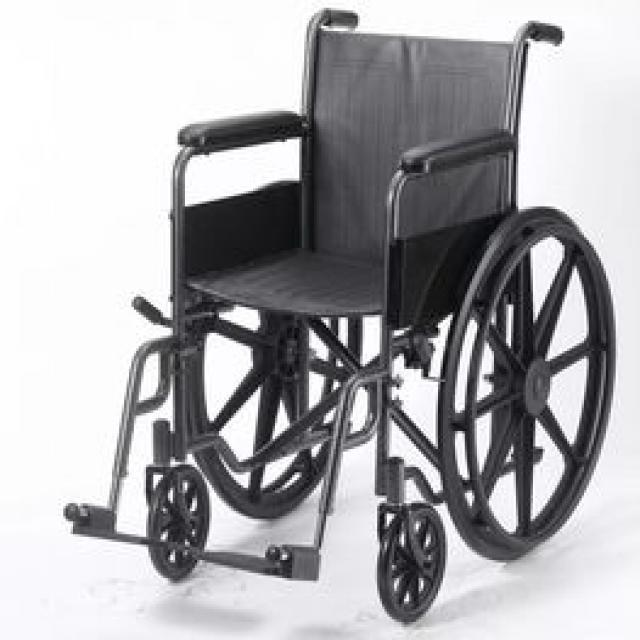wheelchair: (51, 2, 606, 616)
